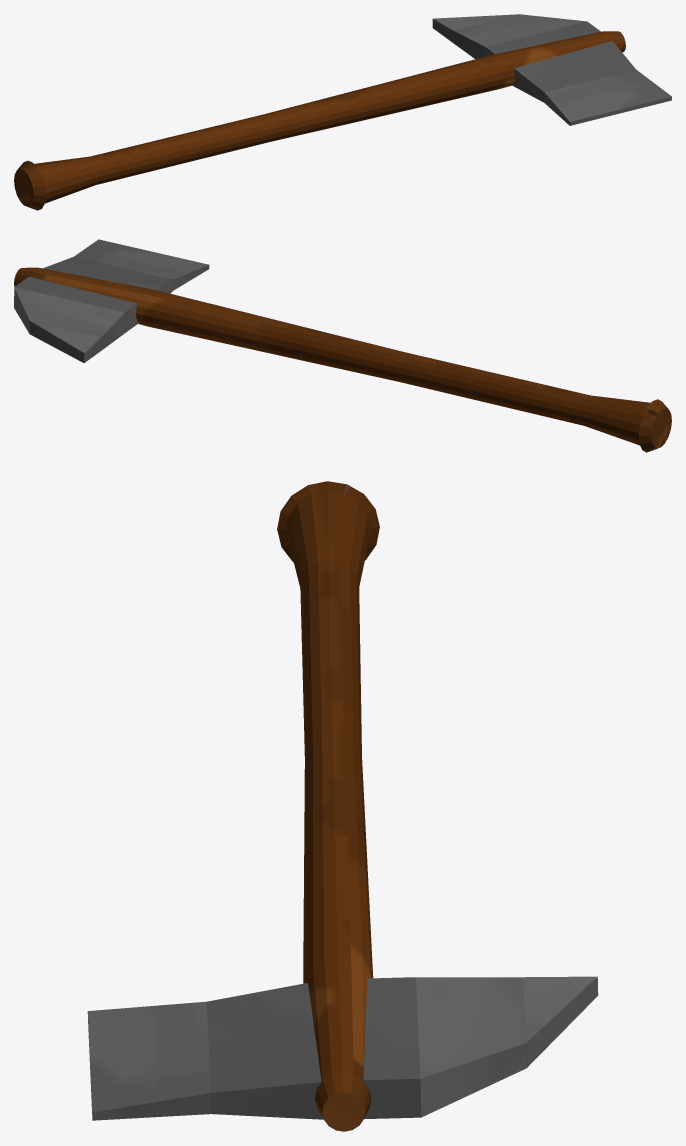
Rendered from Machado.fbx.
3 views of the same model, one above another, from view 1: azimuth 30°, elevation 25°; view 2: azimuth 150°, elevation 25°; view 3: azimuth 270°, elevation 25° (orthographic). The views are drawn at different scales.
Parts seen in each view (by area): view 1: Axe_Old; view 2: Axe_Old; view 3: Axe_Old.
Part boxes in pixels (x1,y1,x2,y2): Axe_Old: (14, 14, 671, 210); Axe_Old: (14, 239, 671, 452); Axe_Old: (87, 481, 598, 1131).
Bounding box in the file's own units: 315 × 23.33 × 116.
